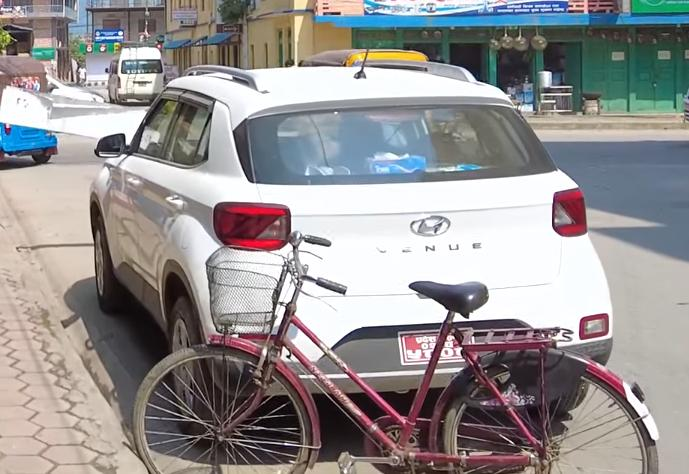auto_rickshaw: (0, 52, 61, 167)
car: (79, 66, 622, 445)
micro_bus: (103, 44, 169, 104)
